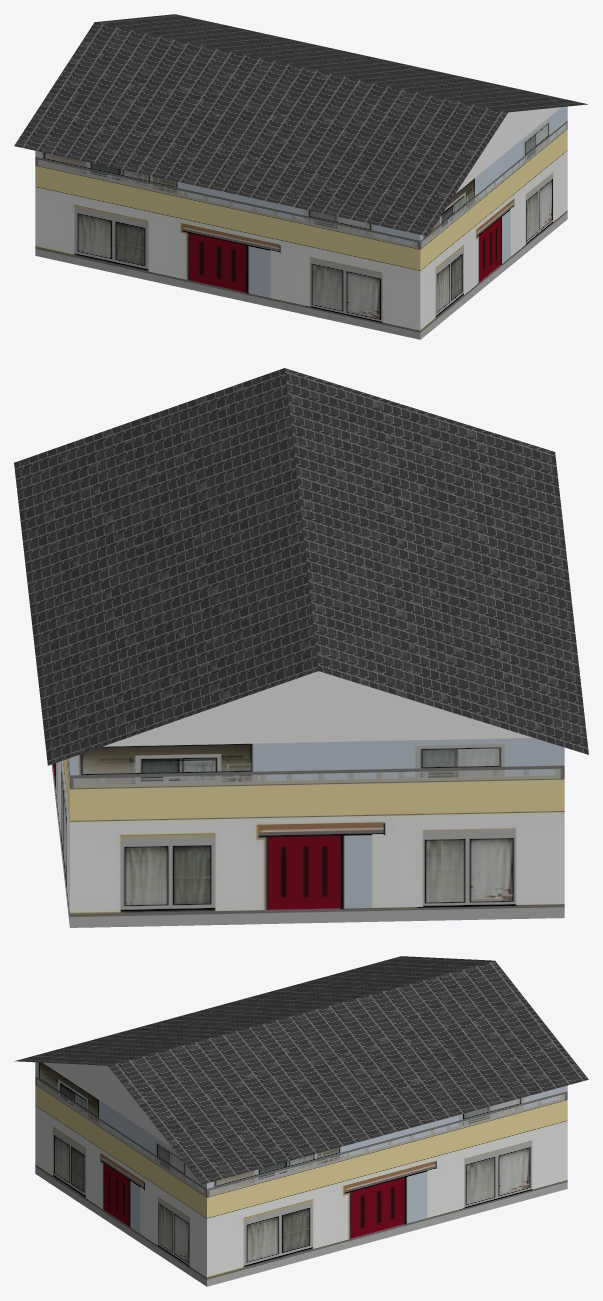
3 views of the same model, one above another, from view 1: azimuth 30°, elevation 25°; view 2: azimuth 150°, elevation 25°; view 3: azimuth 270°, elevation 25° (orthographic). The views are drawn at different scales.
Visible parts, largest first — view 1: CityEngineMaterial_16_m, CityEngineMaterial_15_m, CityEngineMaterial_3_m; view 2: CityEngineMaterial_16_m, CityEngineMaterial_15_m, CityEngineMaterial_3_m; view 3: CityEngineMaterial_16_m, CityEngineMaterial_15_m, CityEngineMaterial_3_m.
Part boxes in pixels (x1,y1,x2,y2): CityEngineMaterial_16_m: (14, 14, 587, 236); CityEngineMaterial_15_m: (35, 106, 567, 339); CityEngineMaterial_3_m: (455, 107, 560, 193); CityEngineMaterial_16_m: (14, 368, 588, 765); CityEngineMaterial_15_m: (51, 738, 564, 927); CityEngineMaterial_3_m: (103, 671, 533, 746); CityEngineMaterial_16_m: (14, 956, 588, 1184); CityEngineMaterial_15_m: (35, 1062, 567, 1286); CityEngineMaterial_3_m: (43, 1062, 172, 1147).
Bounding box in the file's own units: 34.09 × 11.7 × 36.23.
